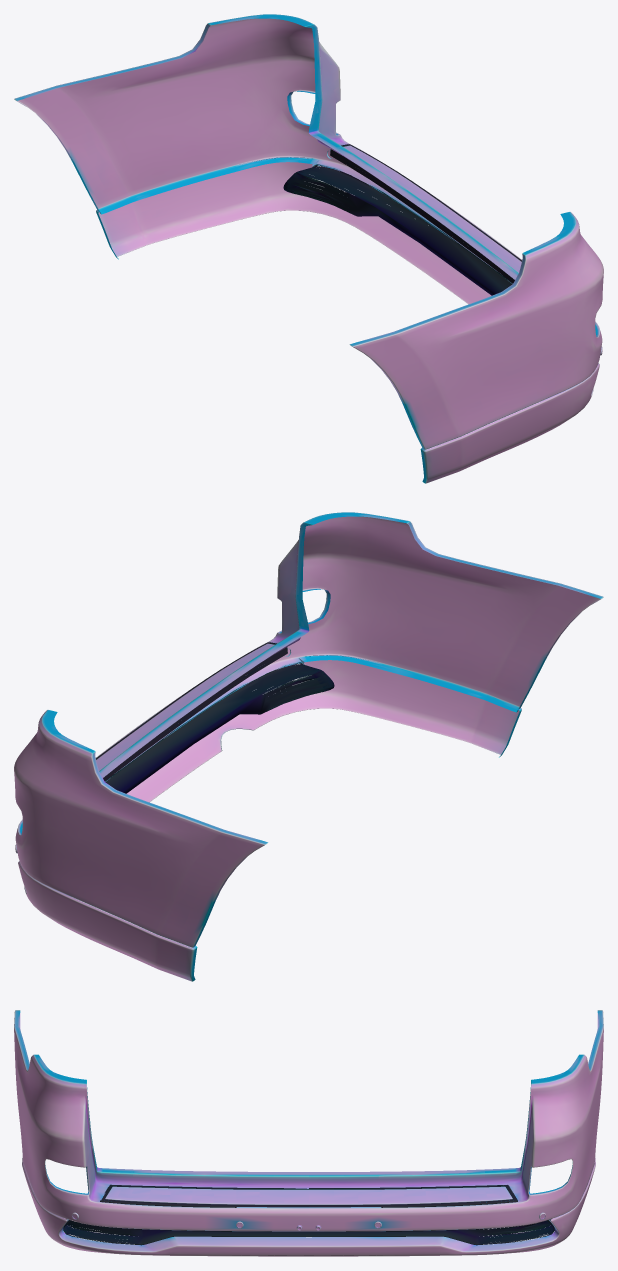
Rendered from bumper_rear.glb.
3 views of the same model, one above another, from view 1: azimuth 30°, elevation 25°; view 2: azimuth 150°, elevation 25°; view 3: azimuth 270°, elevation 25° (orthographic). The views are drawn at different scales.
Visible parts, largest first — view 1: Rear_Bumper_8, carpaint_7, black_12, chrome_4; view 2: Rear_Bumper_8, carpaint_7, black_12, chrome_4; view 3: Rear_Bumper_8, carpaint_7, black_12, chrome_4.
Part boxes in pixels (<box>): Rear_Bumper_8: <box>14,14,603,449</box>; carpaint_7: <box>96,157,599,483</box>; black_12: <box>283,144,521,295</box>; chrome_4: <box>343,145,521,272</box>; Rear_Bumper_8: <box>14,512,603,947</box>; carpaint_7: <box>18,655,521,981</box>; black_12: <box>96,642,334,793</box>; chrome_4: <box>96,643,274,770</box>; Rear_Bumper_8: <box>14,1010,603,1231</box>; carpaint_7: <box>22,1158,595,1256</box>; black_12: <box>63,1184,554,1245</box>; chrome_4: <box>105,1186,512,1230</box>.
Size of the model in its own units: 1.04 by 0.6743 by 1.97.
